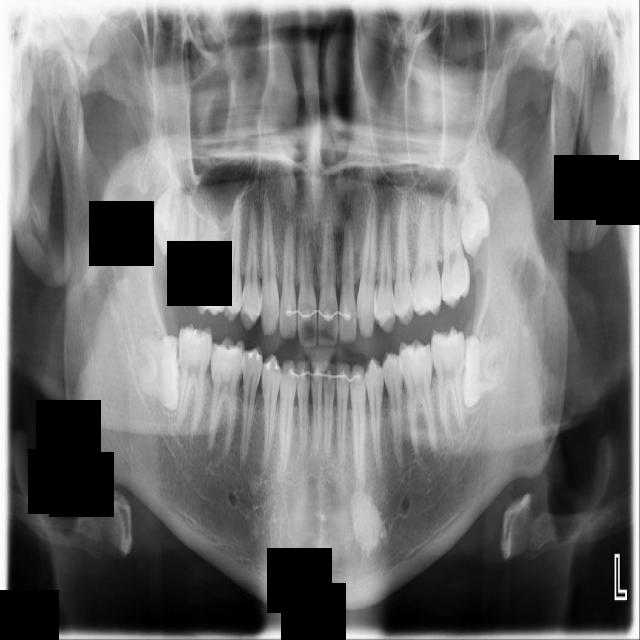3M ESPE Implant: (148, 158, 185, 257)
73: (608, 576, 616, 604)
BioHorizons Implant: (441, 180, 470, 309)
BioLife Implant: (455, 152, 492, 260)
Biomet 3i Implant: (462, 335, 504, 408)
Blue Sky Bio Implant: (429, 327, 469, 442)
Caries: (166, 173, 196, 308)
Implant: (171, 323, 214, 433)
Keystone Dental Implant: (137, 335, 183, 411)
